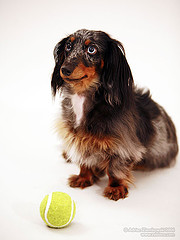tennis ball: (39, 191, 78, 230)
